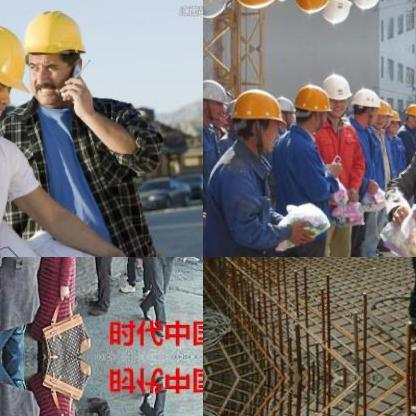Helmet: (22, 6, 90, 110), (231, 83, 283, 149), (0, 17, 29, 122), (290, 81, 326, 129), (324, 70, 350, 116), (203, 76, 227, 125), (350, 88, 378, 124), (272, 91, 294, 129), (323, 0, 353, 26), (230, 0, 284, 13), (289, 0, 328, 15), (203, 0, 229, 20), (402, 100, 415, 131), (386, 108, 400, 134), (376, 95, 386, 129), (349, 0, 380, 8), (271, 0, 295, 5)
